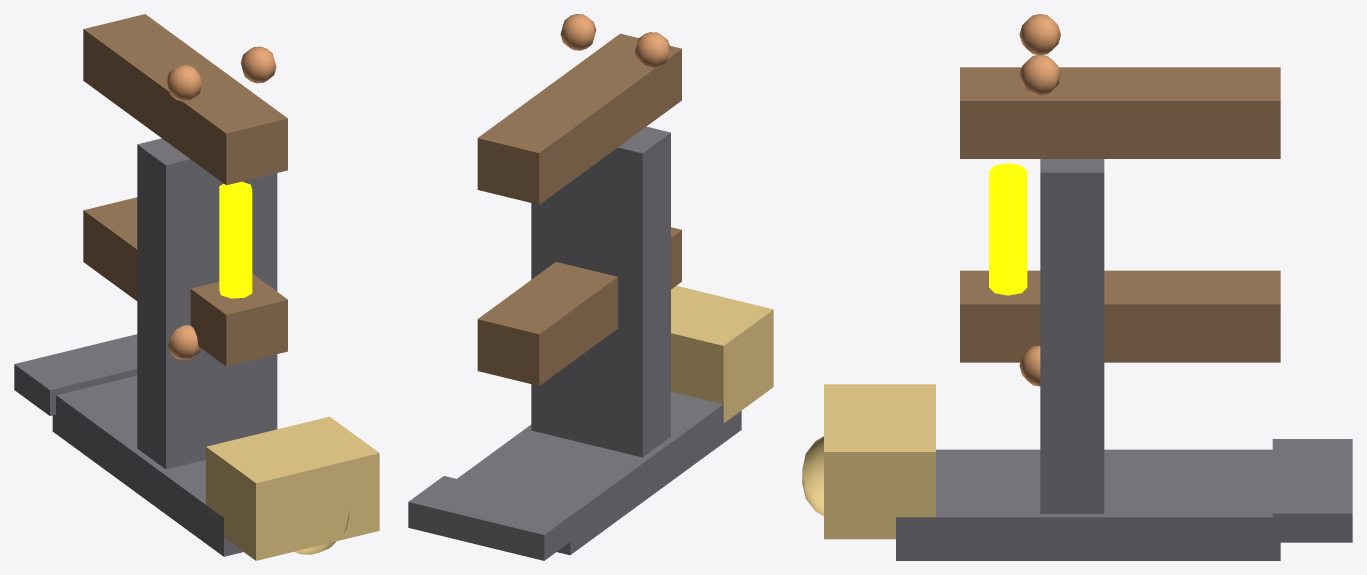
File: boot_plated_right.glb
The picture shows the model from 3 angles, left to right: view 1: azimuth 30°, elevation 25°; view 2: azimuth 150°, elevation 25°; view 3: azimuth 270°, elevation 25°; orthographic projection. The views are drawn at different scales.
Parts seen in each view (by area): view 1: shin, straps, toe, sole, glow, rivets; view 2: shin, straps, sole, toe, rivets; view 3: straps, sole, shin, toe, glow, rivets.
Boxes of the visible parts, x1,y1,x2,y2 form: shin: (137, 138, 277, 469); straps: (83, 14, 287, 366); toe: (206, 416, 379, 560); sole: (14, 334, 243, 556); glow: (219, 181, 252, 298); rivets: (166, 46, 276, 360); shin: (531, 126, 670, 457); straps: (477, 33, 681, 385); sole: (408, 391, 741, 560); toe: (671, 285, 773, 423); rivets: (560, 14, 670, 68); straps: (960, 67, 1280, 362); sole: (896, 439, 1352, 560); shin: (1040, 159, 1104, 513); toe: (802, 384, 935, 539); glow: (989, 163, 1027, 295); rivets: (1019, 14, 1060, 386).
Bounding box in the file's own units: 0.11 × 0.338 × 0.3435.
